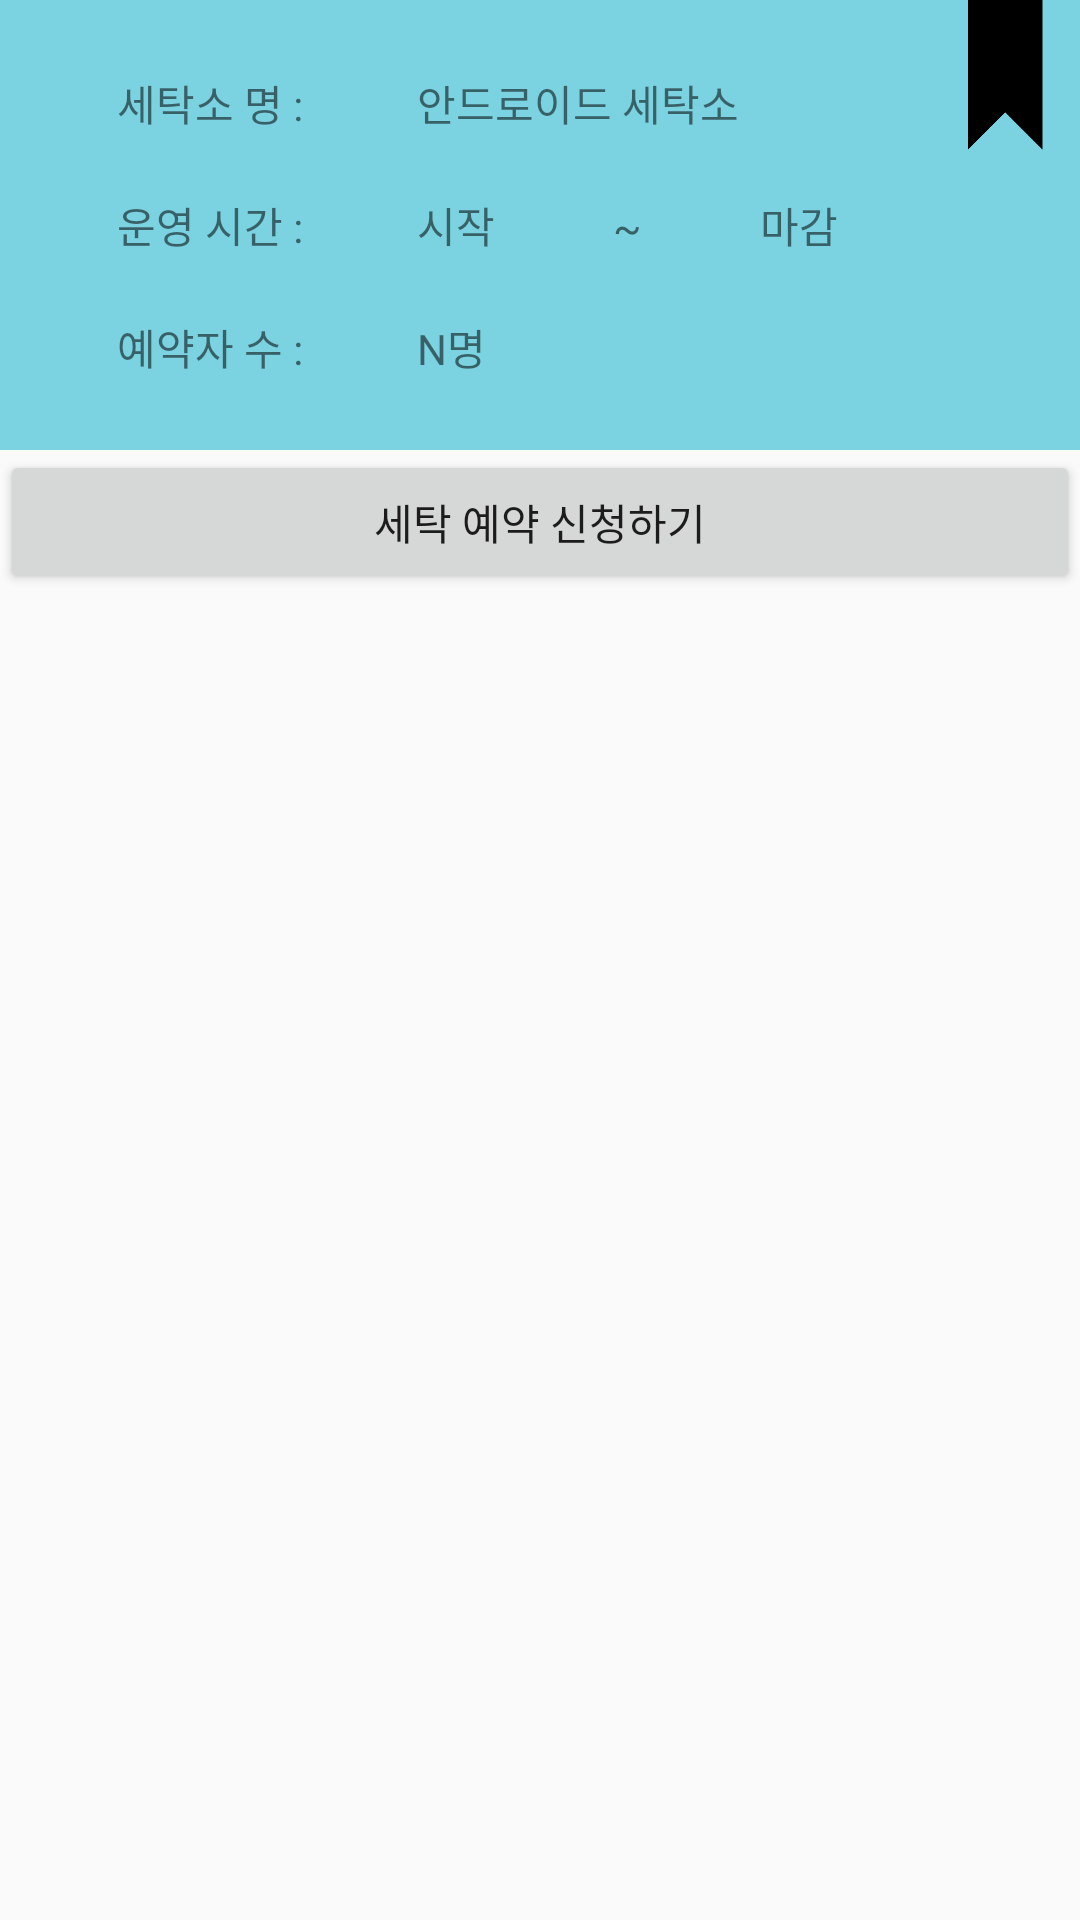

Point at icon controls on the screen. Image size 1080px x 1920px, points as (x=x, y=y).
unbookmark: (x=1005, y=75)
